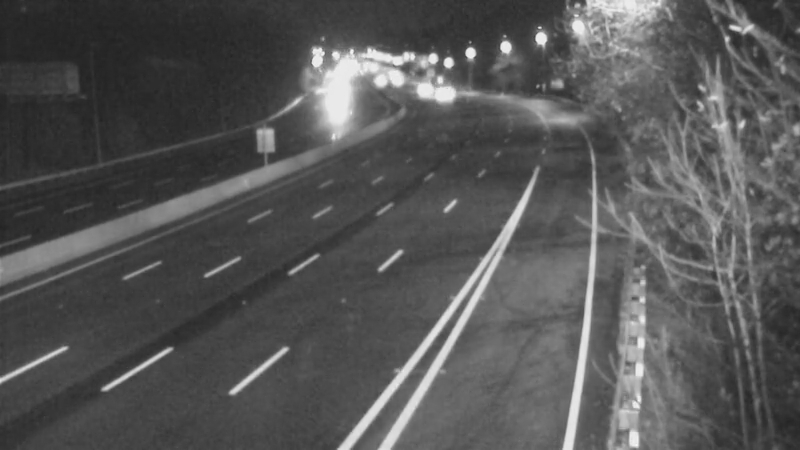vehicle: (372, 56, 422, 106), (353, 55, 403, 105), (402, 61, 452, 111), (420, 69, 470, 119), (307, 73, 357, 123)
